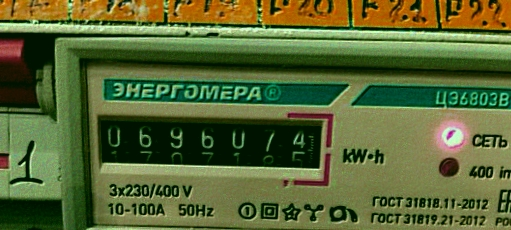0: (102, 122, 122, 148), (229, 124, 246, 150)
4: (290, 125, 307, 149)
5: (290, 149, 305, 167)
6: (135, 121, 155, 149), (197, 125, 215, 149)
7: (258, 126, 277, 152)
9: (165, 123, 185, 149)
screen: (83, 100, 338, 189)
